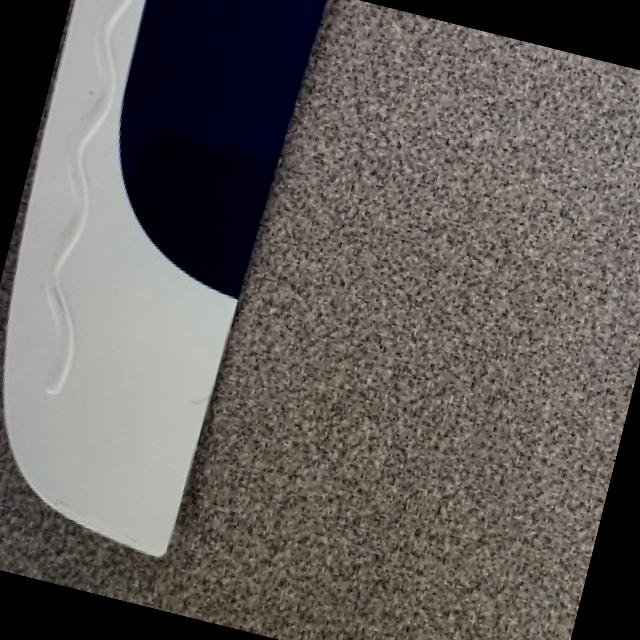healthy: (7, 0, 327, 554)
